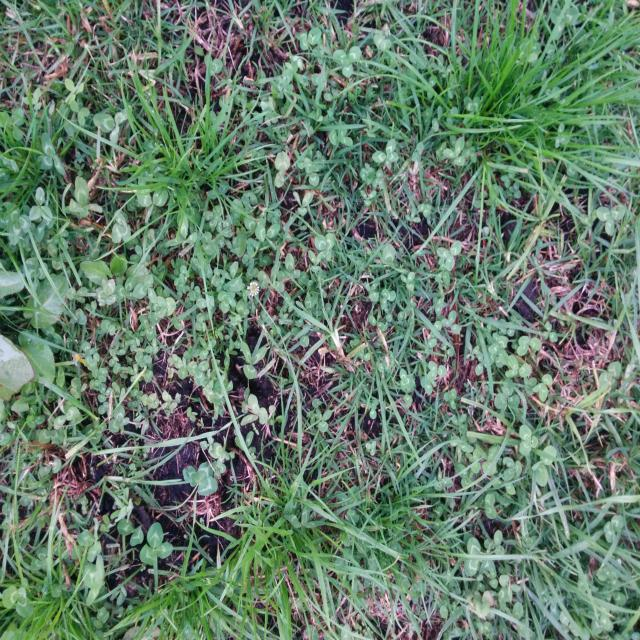Four Leaf Clover: (372, 138, 399, 169)
